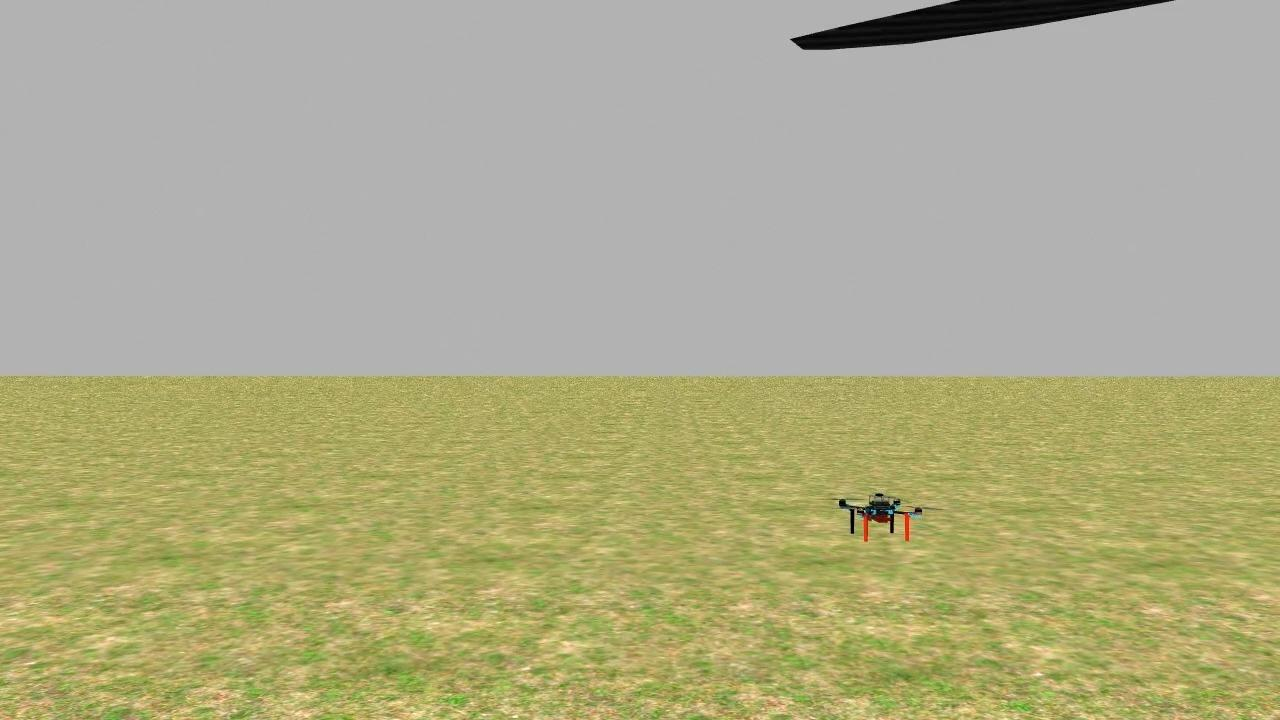UAV: (832, 477, 934, 551)
